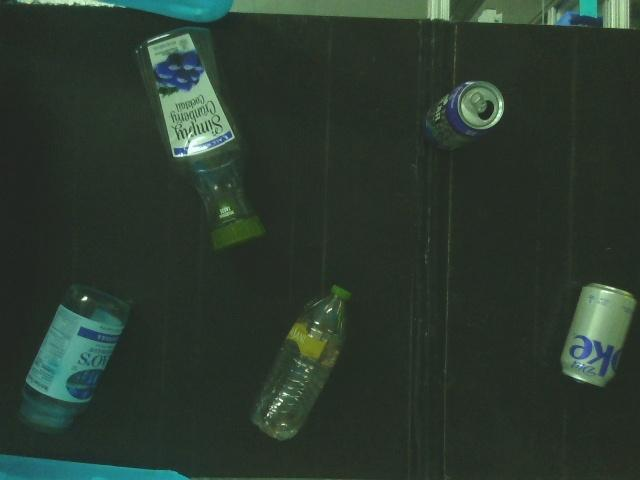metal: (558, 282, 638, 394), (423, 79, 505, 158)
plastic: (129, 25, 268, 254), (18, 280, 134, 439), (248, 282, 356, 444)
